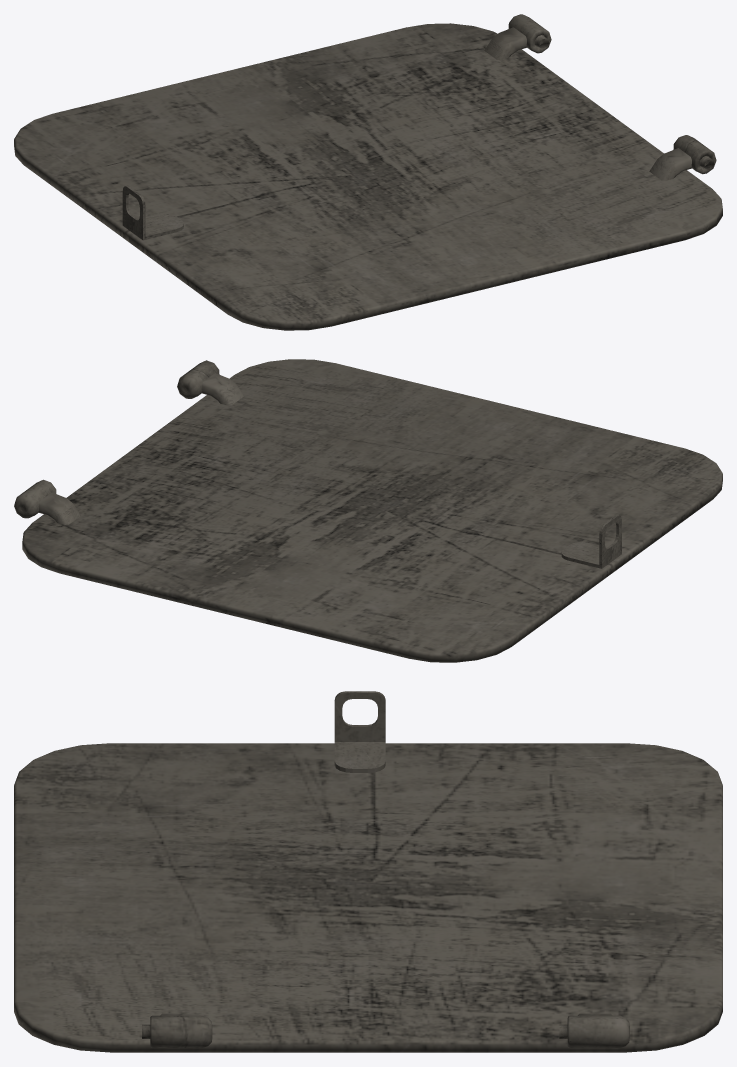
File: Safe2Door2.fbx
3 views of the same model, one above another, from view 1: azimuth 30°, elevation 25°; view 2: azimuth 150°, elevation 25°; view 3: azimuth 270°, elevation 25° (orthographic). The views are drawn at different scales.
Visible parts, largest first — view 1: Safe2Door; view 2: Safe2Door; view 3: Safe2Door.
Boxes of the visible parts, x1,y1,x2,y2 form: Safe2Door: (14, 14, 722, 330); Safe2Door: (14, 359, 722, 662); Safe2Door: (14, 691, 722, 1052).
Size of the model in its own units: 144 by 13.73 by 139.
